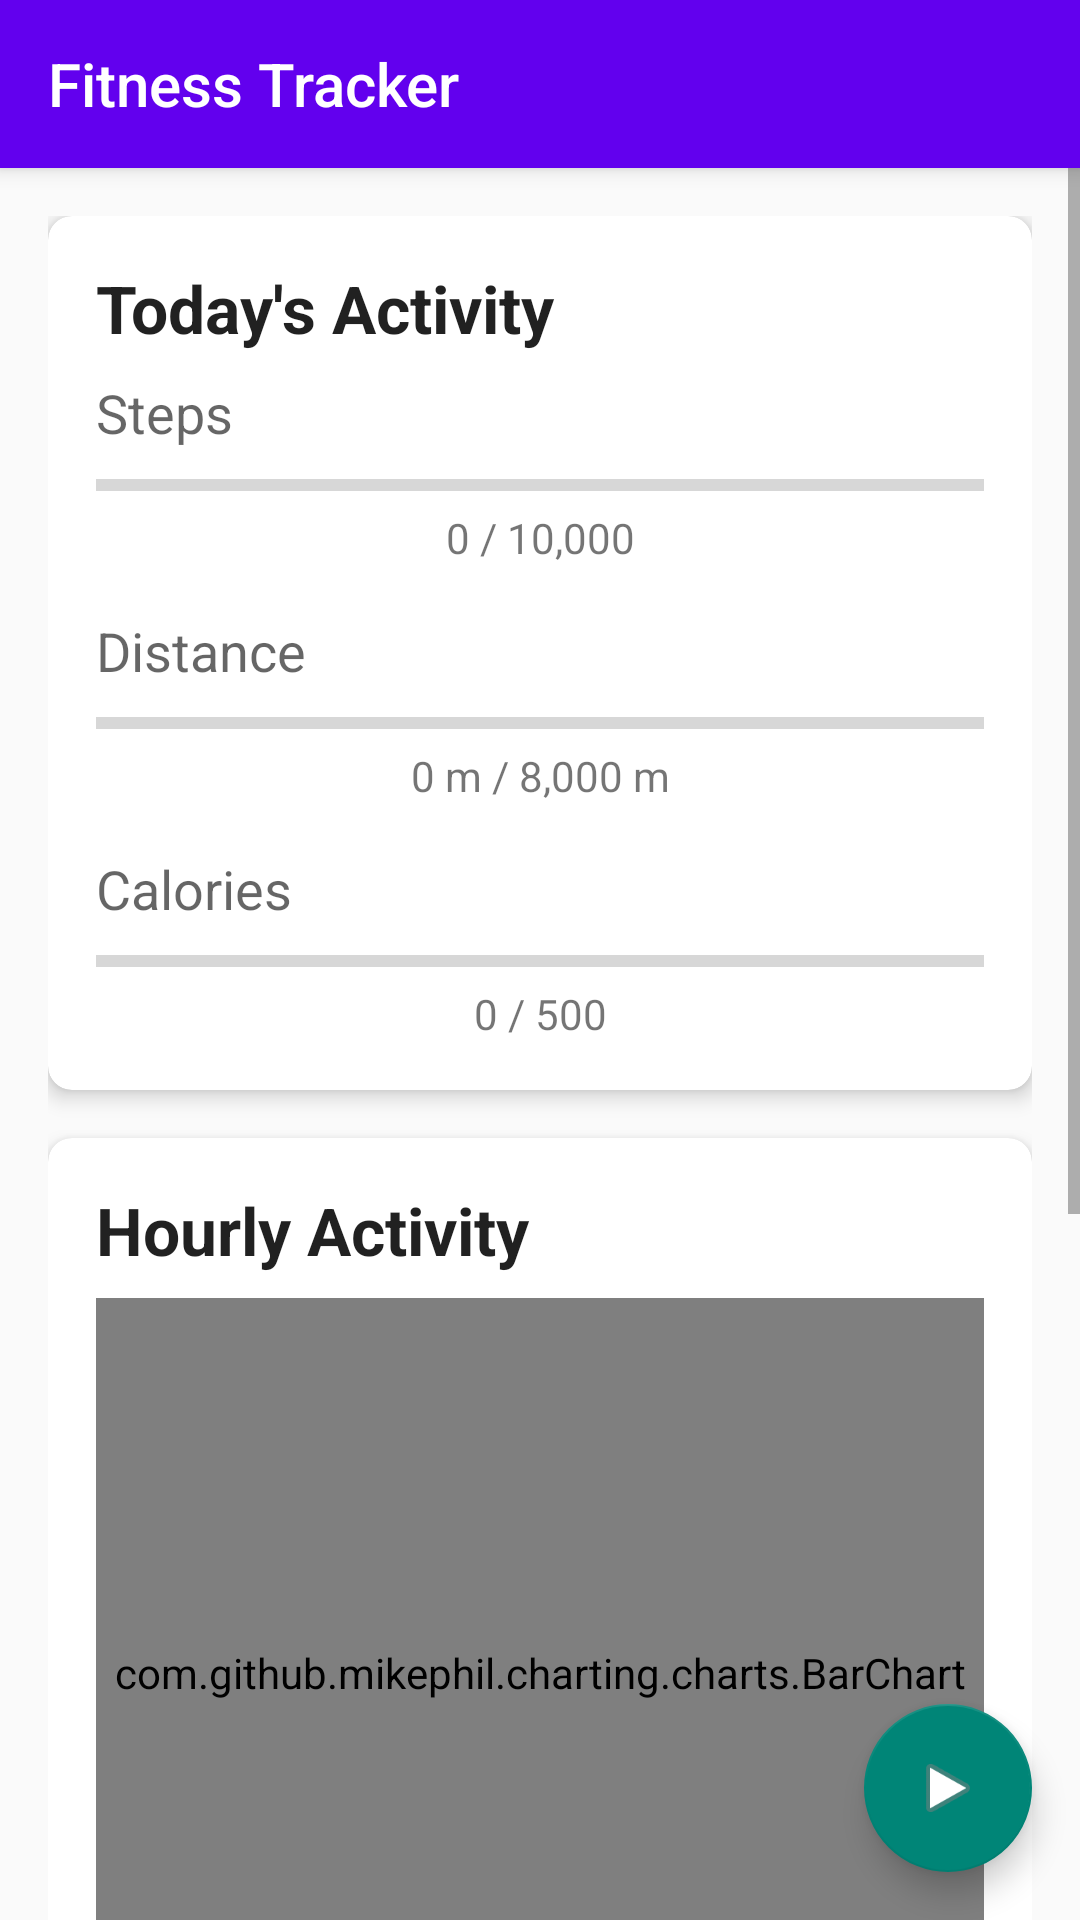

Where icons sit on this 1080px×1920px app screen, as (x1, y1, x2, y2):
Start tracking: (864, 1704, 1032, 1872)
